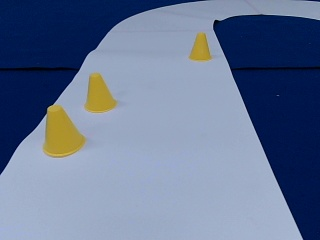cone: (43, 106, 87, 156), (83, 73, 116, 112), (188, 33, 211, 60)
